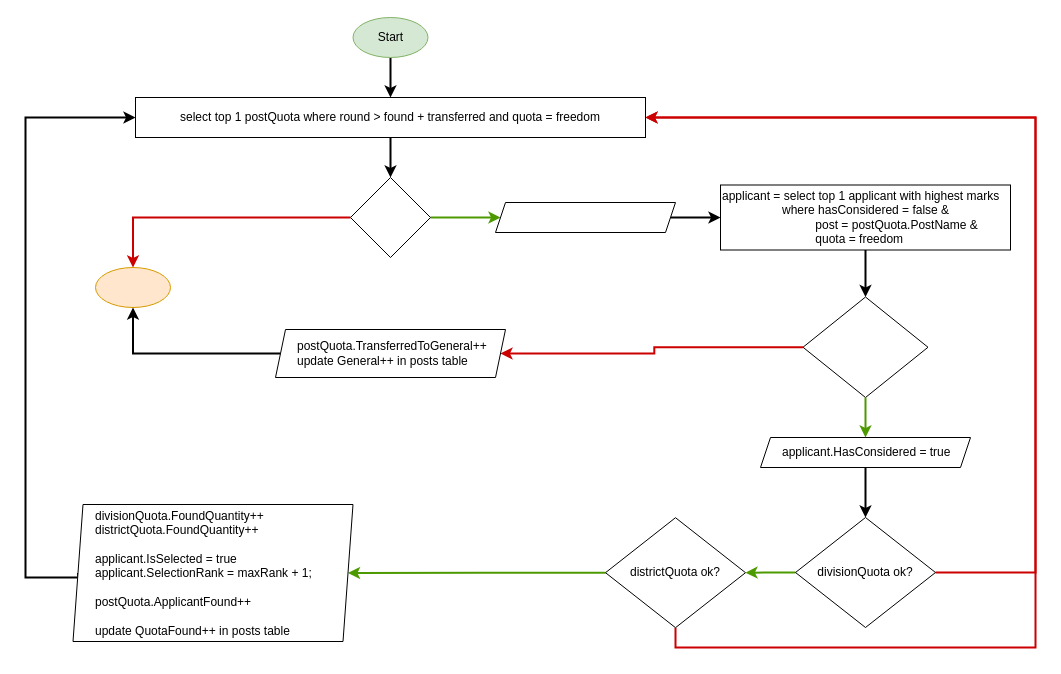
This 1061x674 diagram has some shape labels left out. Each missing label, with the box of its shape:
applicant found ?: (802, 296, 928, 398)
End: (94, 266, 170, 308)
postQuota found ?: (350, 176, 430, 258)
postQuota.SearchCount++: (494, 202, 676, 232)
